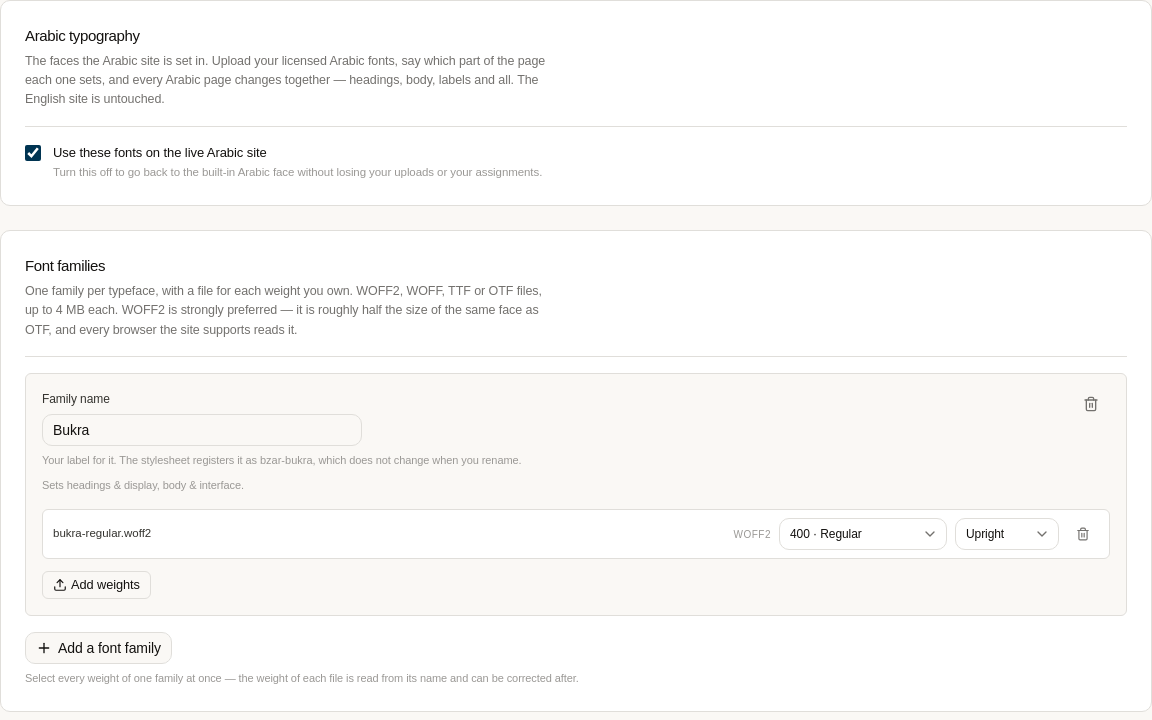
Test: ArabicTypographyForm › releases every role when its family is deleted
This screenshot has width=1152, height=720.
Click the button named "remove the bukra family": (1091, 404) [1072,390,1110,418]
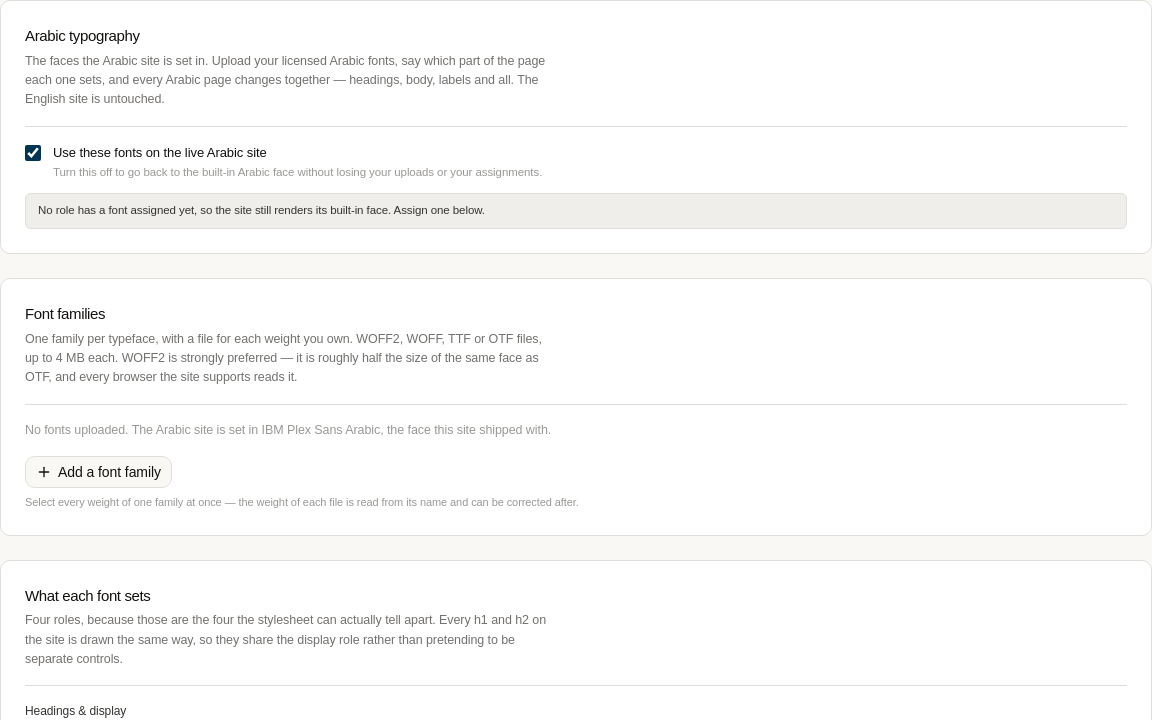
Expected: the text showing "Bukra" is gone
Expected: the text "No fonts uploaded" is shown, [25,423,551,437]
